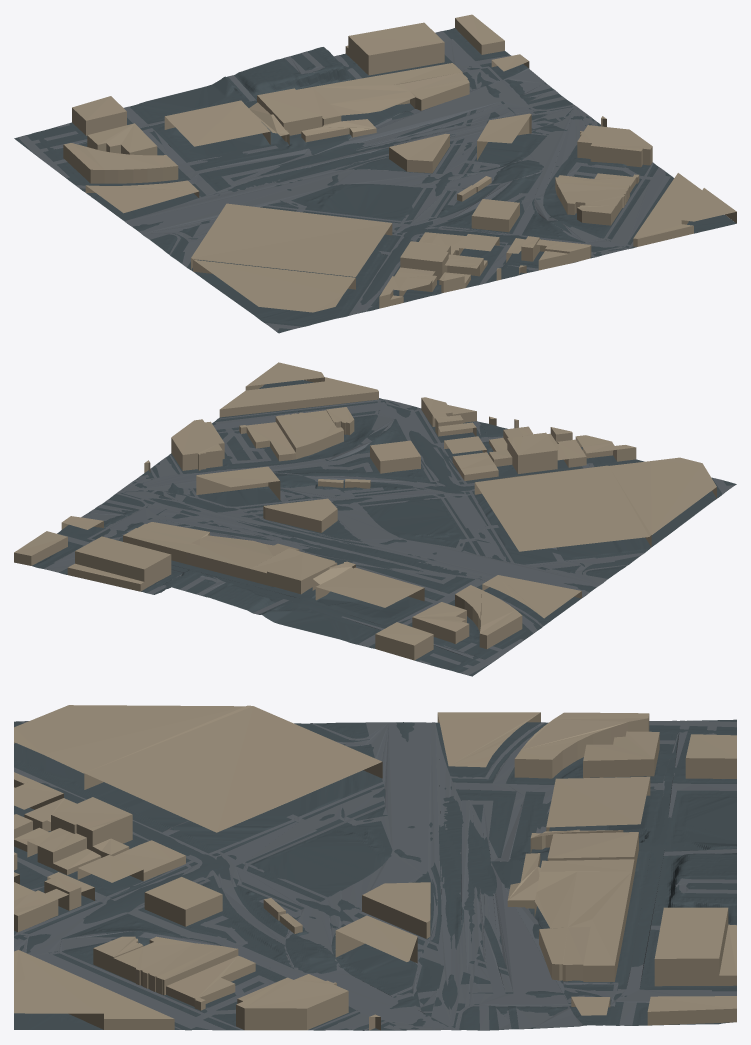
File: epsg26910-1437-10886.lod0.glb
3 views of the same model, one above another, from view 1: azimuth 30°, elevation 25°; view 2: azimuth 150°, elevation 25°; view 3: azimuth 270°, elevation 25° (orthographic). The views are drawn at different scales.
Parts seen in each view (by area): view 1: epsg26910-1437-10886-lod0; view 2: epsg26910-1437-10886-lod0; view 3: epsg26910-1437-10886-lod0.
Boxes of the visible parts, x1=… form: epsg26910-1437-10886-lod0: x1=14, y1=14, x2=736, y2=333; epsg26910-1437-10886-lod0: x1=14, y1=362, x2=736, y2=676; epsg26910-1437-10886-lod0: x1=14, y1=705, x2=736, y2=1030.
Size of the model in its own units: 384 by 23.17 by 384.
